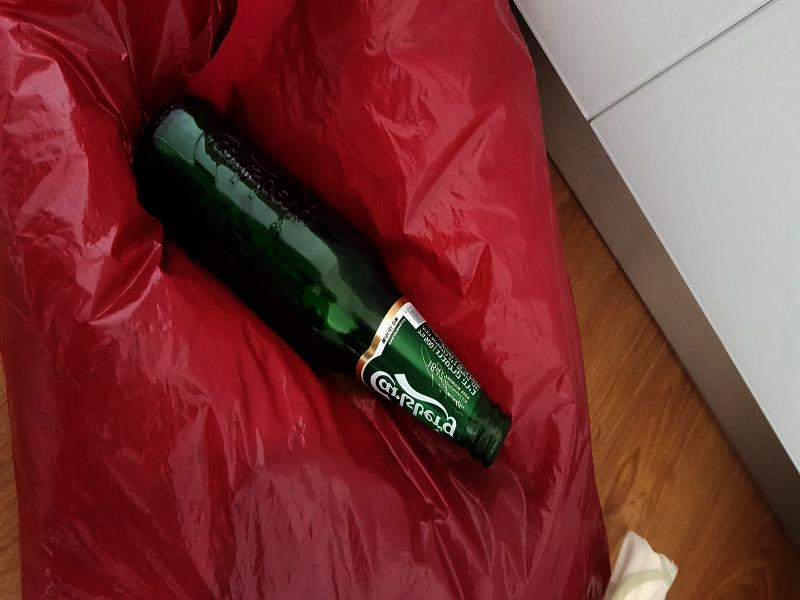Beer: (136, 100, 511, 467)
